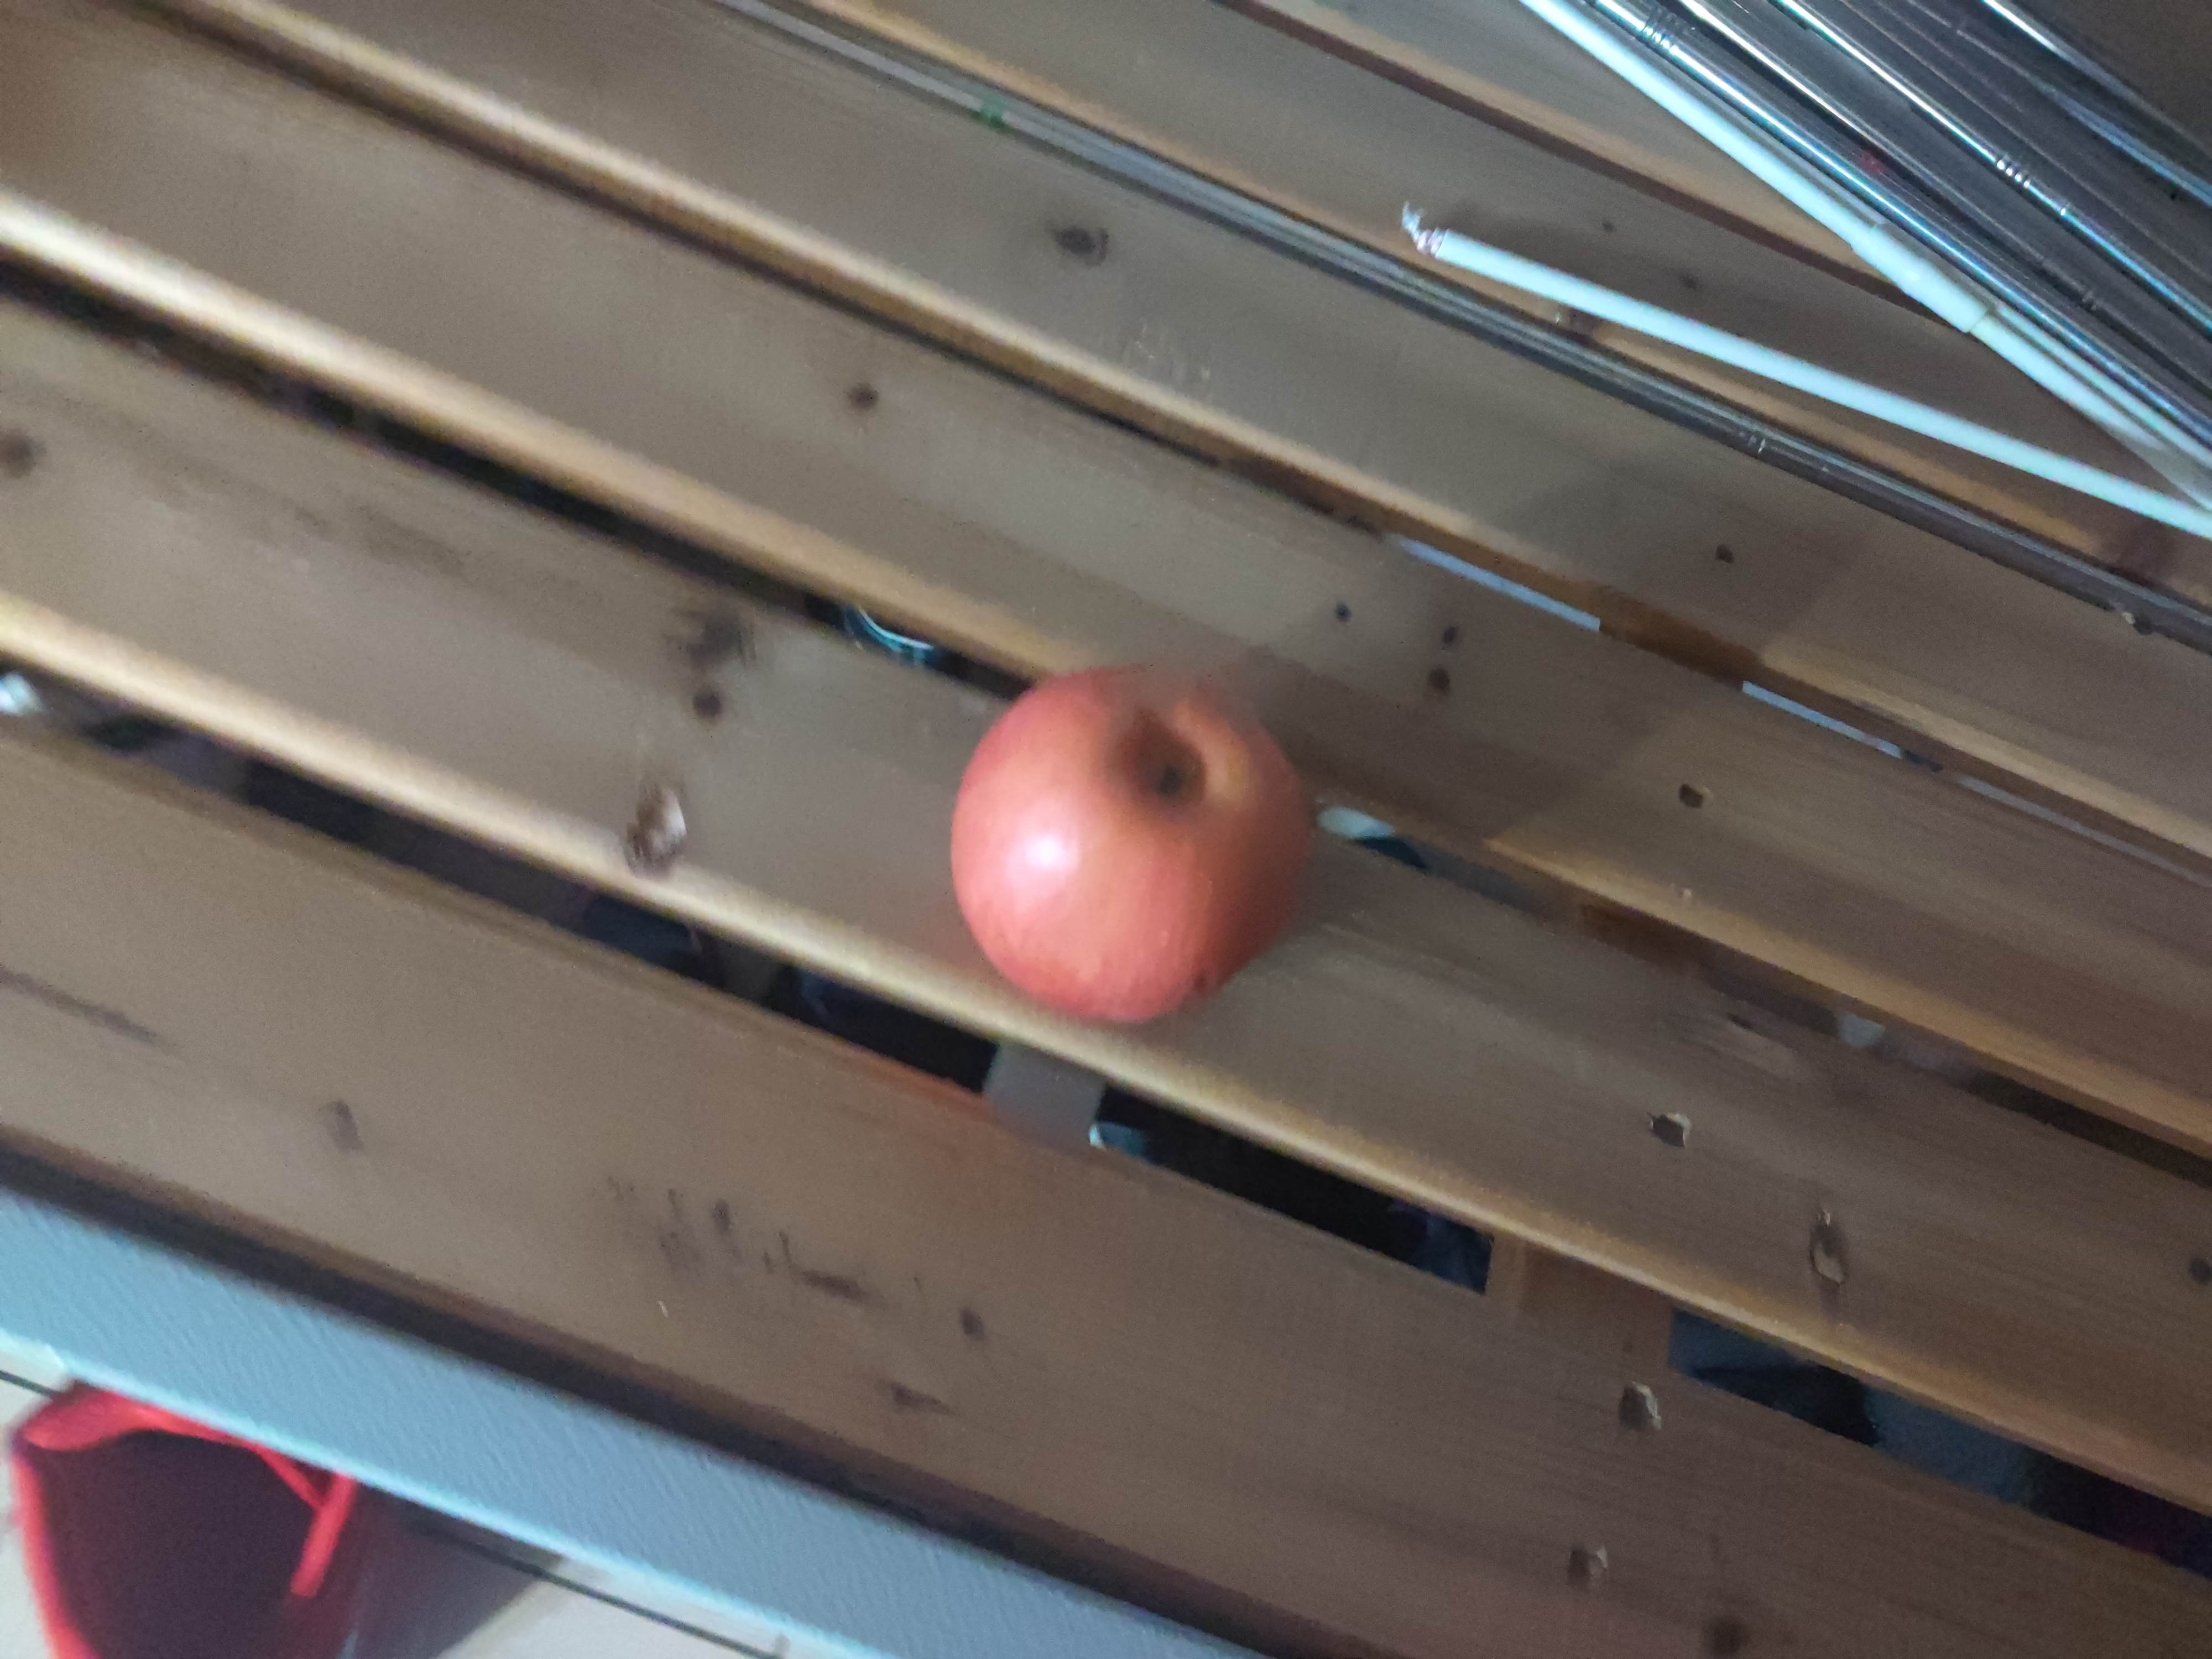apple: (949, 666, 1318, 1030)
